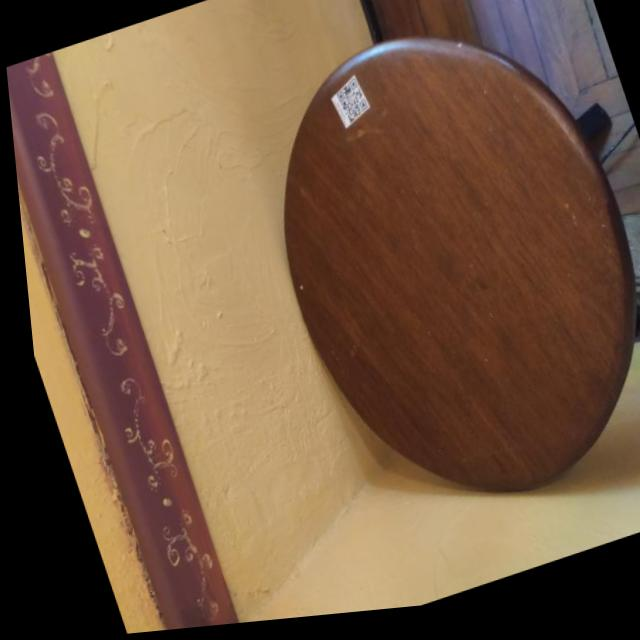qrcode: (332, 82, 369, 131)
